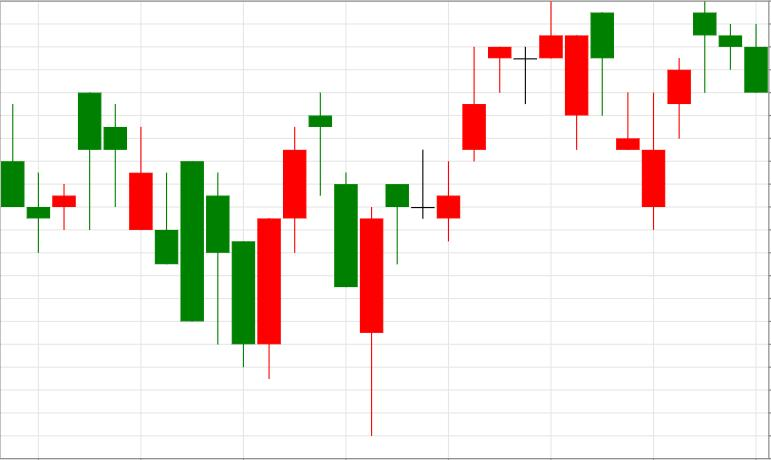evening_star_fall: (232, 92, 358, 379)
inverse_hammer_rise: (79, 93, 178, 264)
